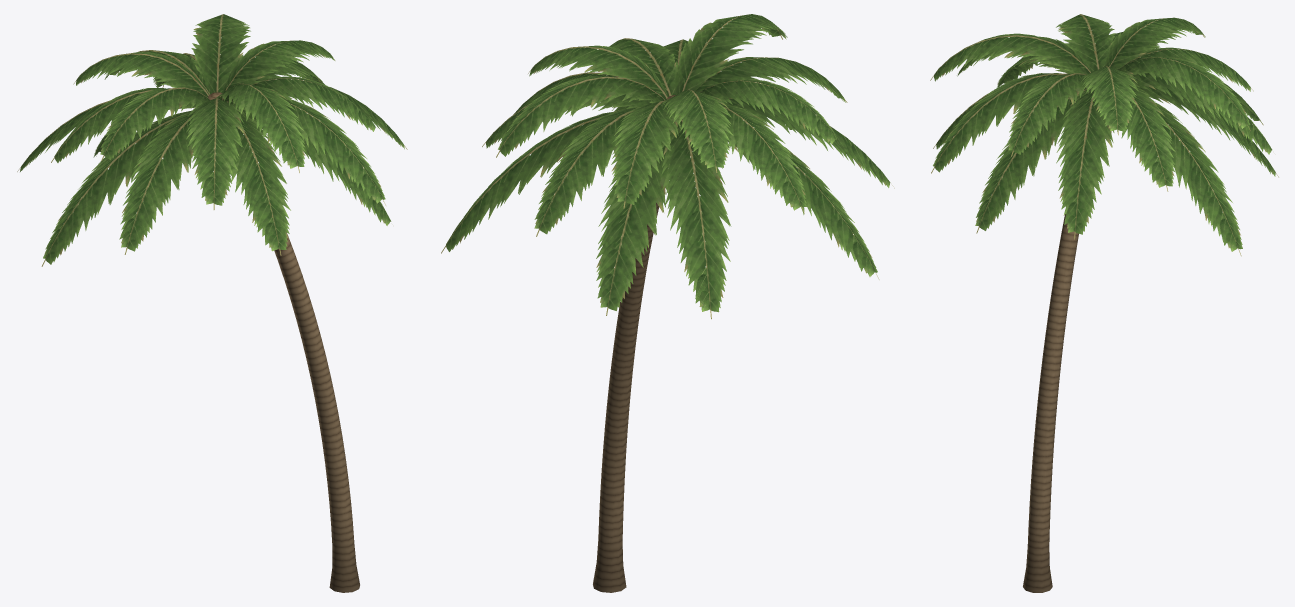
Rendered from coconut_b.glb.
3 renders of one model, left to right at view 1: azimuth 30°, elevation 25°; view 2: azimuth 150°, elevation 25°; view 3: azimuth 270°, elevation 25°, orthographic. The views are drawn at different scales.
Visible parts, largest first — view 1: leaves, wood; view 2: leaves, wood; view 3: leaves, wood.
Boxes of the visible parts, bbox=[...] form: leaves: bbox=[17, 14, 407, 266]; wood: bbox=[208, 92, 359, 592]; leaves: bbox=[441, 14, 894, 319]; wood: bbox=[593, 95, 686, 592]; leaves: bbox=[930, 14, 1278, 256]; wood: bbox=[1023, 104, 1093, 592].
Size of the model in its own units: 7.15 by 10.06 by 6.4.
2 materials, 2 textured.
